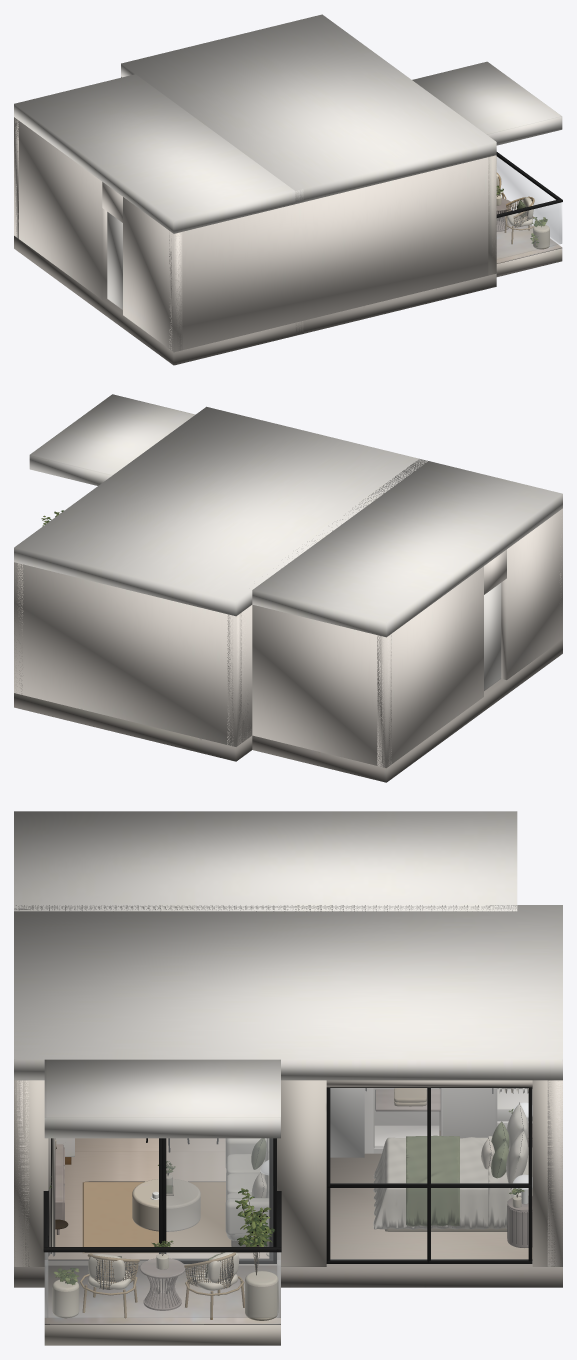
Rendered from apartment.glb.
The picture shows the model from 3 angles, top to bottom: view 1: azimuth 30°, elevation 25°; view 2: azimuth 150°, elevation 25°; view 3: azimuth 270°, elevation 25°; orthographic projection. The views are drawn at different scales.
Parts seen in each view (by area): view 1: apartment-arch, apartment-matte, apartment-glass, apartment-metal; view 2: apartment-arch, apartment-matte; view 3: apartment-arch, apartment-matte, apartment-glass, apartment-metal.
Boxes of the visible parts, <box> form: apartment-arch: <box>14,14,496,365</box>; apartment-matte: <box>107,61,562,309</box>; apartment-glass: <box>497,157,562,259</box>; apartment-metal: <box>496,152,562,217</box>; apartment-arch: <box>14,406,562,782</box>; apartment-matte: <box>29,394,501,690</box>; apartment-arch: <box>14,811,562,1287</box>; apartment-matte: <box>44,1059,532,1345</box>; apartment-glass: <box>44,1088,528,1317</box>; apartment-metal: <box>43,1087,532,1263</box>.
Size of the model in its own units: 9.51 by 3.3 by 7.2.
Materials: 6 (5 with a texture image).
